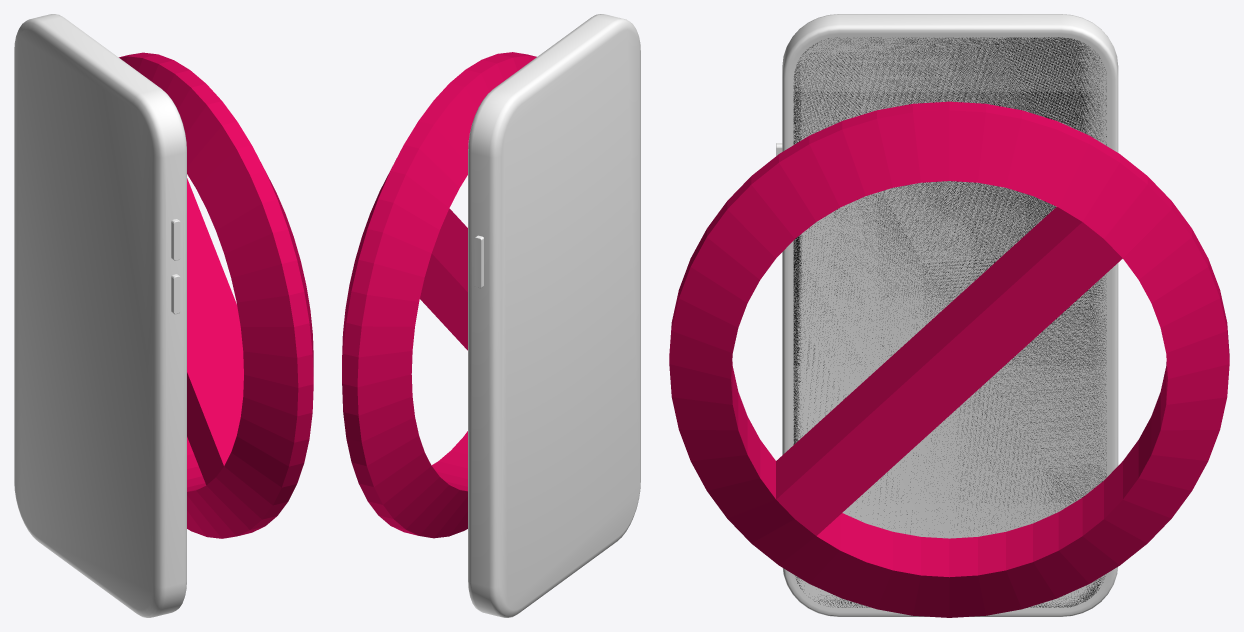
The model's file is mobile.glb.
3 views of the same model, side by side, from view 1: azimuth 30°, elevation 25°; view 2: azimuth 150°, elevation 25°; view 3: azimuth 270°, elevation 25° (orthographic). The views are drawn at different scales.
Parts seen in each view (by area): view 1: Cube, Torus.001, Cube.001; view 2: Cube, Torus.001, Cube.001; view 3: Torus.001, Cube, screen.
Boxes of the visible parts, x1,y1,x2,y2 form: Cube: (14,14,186,617); Torus.001: (119,52,313,538); Cube.001: (171,219,180,314); Cube: (468,14,640,617); Torus.001: (342,52,536,538); Cube.001: (474,235,483,288); Torus.001: (669,101,1229,617); Cube: (782,14,1118,616); screen: (793,37,1106,607).
Bounding box in the file's own units: 1.13 × 4.23 × 3.63.
